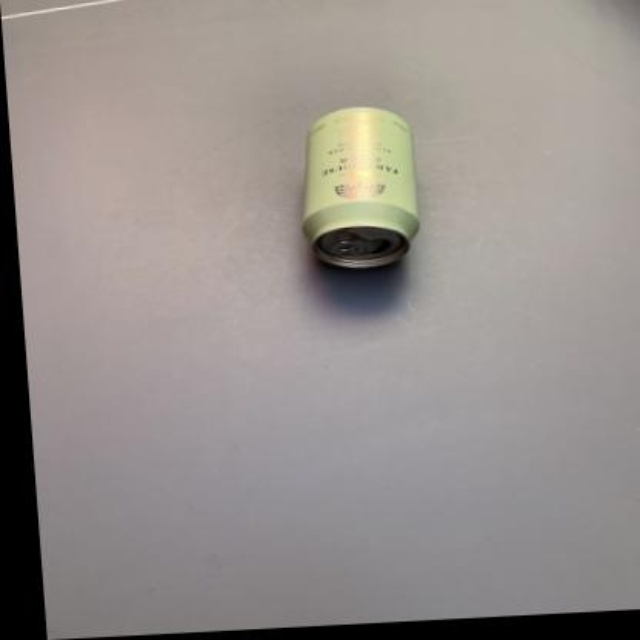trash: (303, 108, 417, 268)
